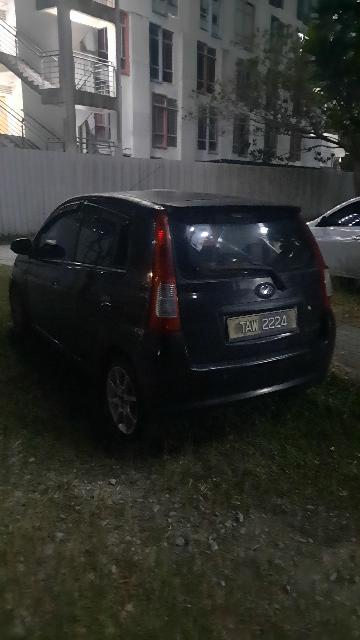License_Plate: (225, 308, 306, 342)
car: (7, 185, 341, 439)
